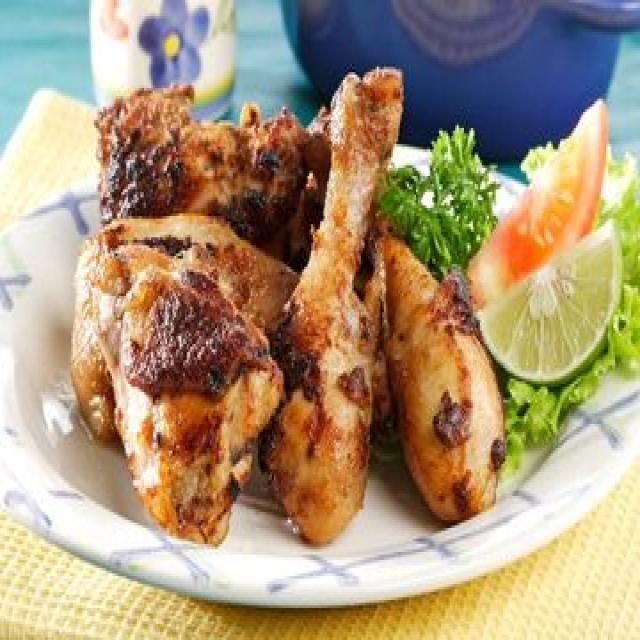Frango: (73, 218, 300, 538), (266, 69, 402, 544), (99, 106, 325, 282), (373, 232, 498, 536)
